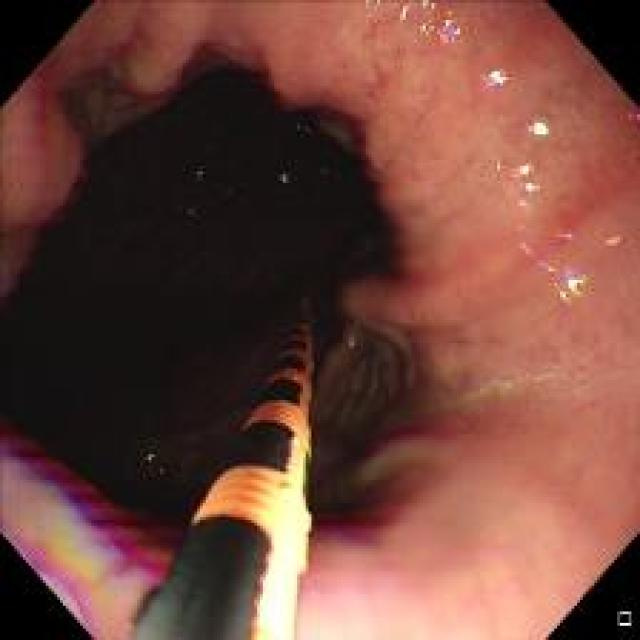color misalignment: (1, 430, 151, 634), (508, 155, 588, 302), (294, 528, 396, 602), (398, 0, 464, 46), (481, 139, 510, 172), (521, 114, 555, 142), (479, 61, 512, 89), (605, 230, 635, 256), (364, 0, 381, 16), (620, 109, 638, 124)
contrast: (18, 66, 450, 565)
instrument: (145, 290, 318, 634)
saturation: (261, 515, 305, 628)
specularity: (529, 120, 548, 135), (565, 276, 584, 291), (489, 68, 504, 84), (518, 161, 532, 175), (521, 182, 535, 192)
